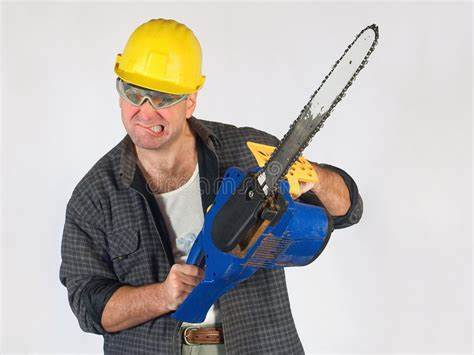safetyhat: (53, 17, 352, 354)
